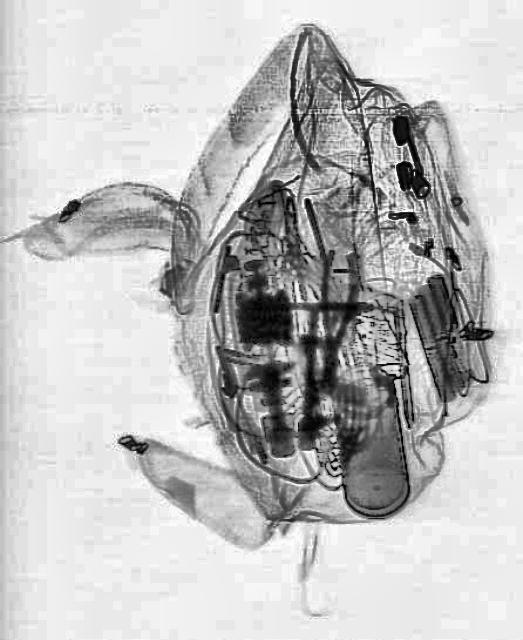Pliers: (308, 245, 363, 388)
